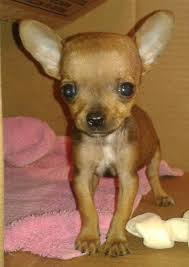chihuahua: (7, 5, 189, 262)
